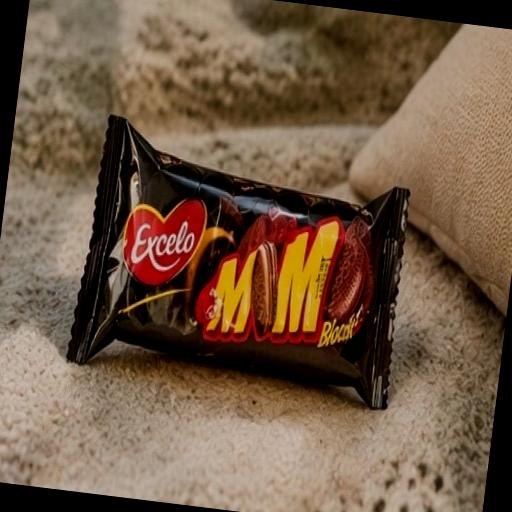MOMO: (46, 79, 474, 468)
